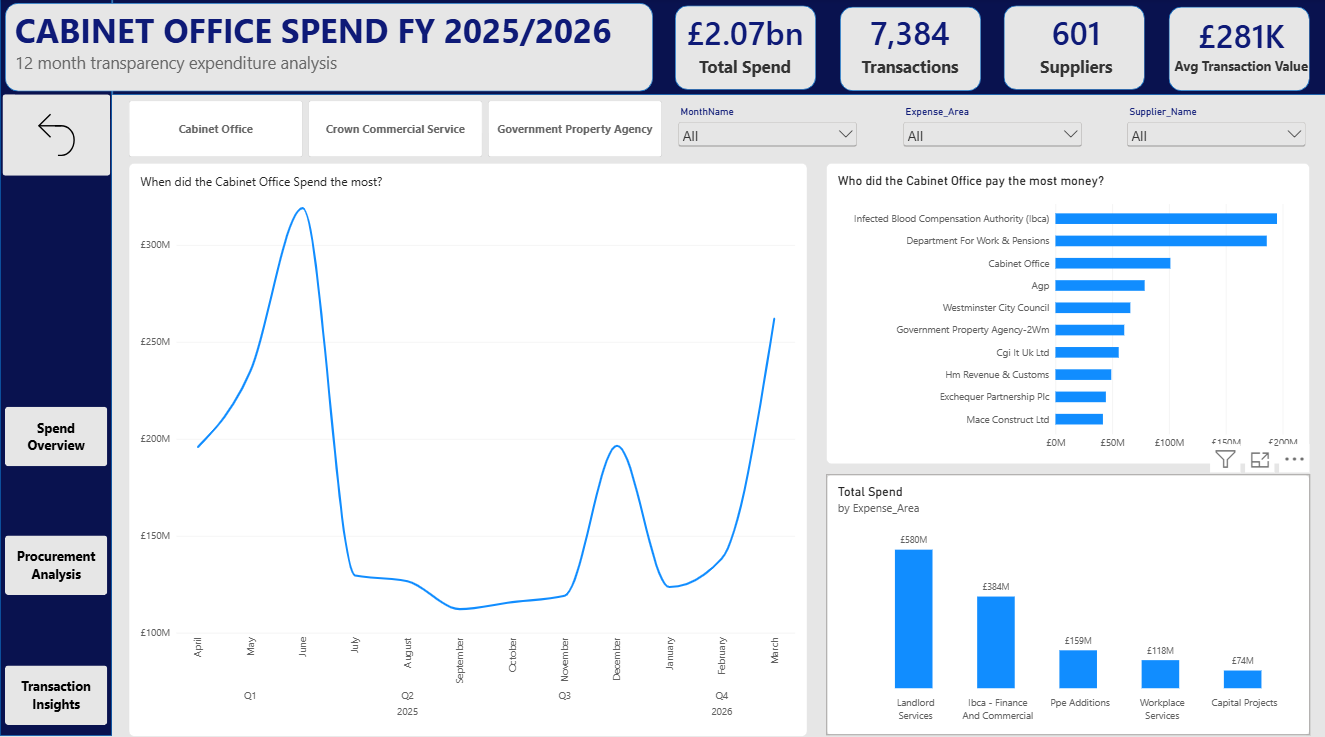

What the dashboard file says about the page in this screenshot:
{"tool":"powerbi","page":{"name":"Spend Overview","canvas":[1920,1080],"ordinal":0},"visuals":[{"type":"shape","title":"Top Bar","box":[162,0,1758,140],"z":0},{"type":"card","title":"Total Spend","fields":{"Values":["_Measures.Total Spend"]},"box":[956,0,246,132],"z":0,"group":"g3"},{"type":"shape","box":[978,10,204,122],"z":0,"group":"g1"},{"type":"group","id":"g1","title":"KPI Cards","box":[978,10,918,124],"z":0,"group":"g2"},{"type":"slicer","fields":{"Values":["Dim_Date.MonthName"]},"box":[978,156,268,66],"z":0,"group":"g4"},{"type":"group","id":"g2","title":"KPI","box":[956,0,964,134],"z":1000},{"type":"group","id":"g3","title":"KPI Values","box":[956,0,964,132],"z":1000,"group":"g2"},{"type":"card","title":"Transactions","fields":{"Values":["_Measures.Transactions"]},"box":[1195.3,0,246,132],"z":1000,"group":"g3"},{"type":"shape","box":[1692,12,204,122],"z":1000,"group":"g1"},{"type":"slicer","fields":{"Values":["Dim_Category.Expense_Area"]},"box":[1303,156,268,66],"z":1000,"group":"g4"},{"type":"shape","title":"Side Navigation","box":[0,0,162,1068],"z":2000},{"type":"card","title":"Suppliers","fields":{"Values":["_Measures.Suppliers"]},"box":[1434.7,0,246,132],"z":2000,"group":"g3"},{"type":"shape","box":[1454,10,204,122],"z":2000,"group":"g1"},{"type":"slicer","fields":{"Values":["Dim_Supplier.Supplier_Name"]},"box":[1628,156,268,66],"z":2000,"group":"g4"},{"type":"card","title":"Avg Trans Value","fields":{"Values":["_Measures.Avg Transaction Value"]},"box":[1674,0,246,132],"z":3000,"group":"g3"},{"type":"shape","box":[1216,12,204,122],"z":3000,"group":"g1"},{"type":"lineChart","title":"When did the Cabinet Office Spend the most?","fields":{"Category":["Dim_Date.Year Hierarchy.Year","Dim_Date.Year Hierarchy.Quarter","Dim_Date.Year Hierarchy.MonthName"],"Y":["_Measures.Total Spend"]},"box":[186,238,982,830],"z":3000},{"type":"barChart","title":"Who did the Cabinet  Office pay the most money?","fields":{"Category":["Dim_Supplier.Supplier_Name"],"Y":["_Measures.Total Spend"]},"box":[1196,238,700,436],"z":4000},{"type":"columnChart","fields":{"Category":["Dim_Category.Expense_Area"],"Y":["_Measures.Total Spend"]},"box":[1196,690,700,378],"z":5000},{"type":"advancedSlicerVisual","fields":{"Values":["Fact_Spend.Entity"]},"box":[186,148,774,82],"z":6000},{"type":"group","id":"g4","title":"Slicers","box":[978,156,918,66],"z":8000},{"type":"actionButton","box":[8,592,148,86],"z":9000},{"type":"actionButton","box":[8,966,148,86],"z":10000},{"type":"actionButton","box":[8,779,148,86],"z":11000},{"type":"actionButton","box":[4,140,156,118],"z":12000},{"type":"shape","box":[8,8,938,128],"z":13000},{"type":"textbox","box":[22,12,910,120],"z":13500}]}

Visuals, with their boxes in screenshot pixels (x1, y1, x2, y2), scaled from the page's 1920x1080 canvas onto the 1325x737 screenshot:
"Top Bar" shape: [112, 0, 1324, 96]
"Total Spend" card: [660, 0, 830, 90]
shape: [675, 7, 816, 90]
"KPI Cards" group: [675, 7, 1308, 91]
slicer - Dim_Date.MonthName: [675, 106, 860, 151]
"KPI" group: [660, 0, 1324, 91]
"KPI Values" group: [660, 0, 1324, 90]
"Transactions" card: [825, 0, 995, 90]
shape: [1168, 8, 1308, 91]
slicer - Dim_Category.Expense_Area: [899, 106, 1084, 151]
"Side Navigation" shape: [0, 0, 112, 729]
"Suppliers" card: [990, 0, 1160, 90]
shape: [1003, 7, 1144, 90]
slicer - Dim_Supplier.Supplier_Name: [1123, 106, 1308, 151]
"Avg Trans Value" card: [1155, 0, 1324, 90]
shape: [839, 8, 980, 91]
"When did the Cabinet Office Spend the most?" lineChart: [128, 162, 806, 729]
"Who did the Cabinet  Office pay the most money?" barChart: [825, 162, 1308, 460]
columnChart - Dim_Category.Expense_Area x _Measures.Total Spend: [825, 471, 1308, 729]
advancedSlicerVisual - Fact_Spend.Entity: [128, 101, 662, 157]
"Slicers" group: [675, 106, 1308, 151]
actionButton: [6, 404, 108, 463]
actionButton: [6, 659, 108, 718]
actionButton: [6, 532, 108, 590]
actionButton: [3, 96, 110, 176]
shape: [6, 5, 653, 93]
textbox: [15, 8, 643, 90]
